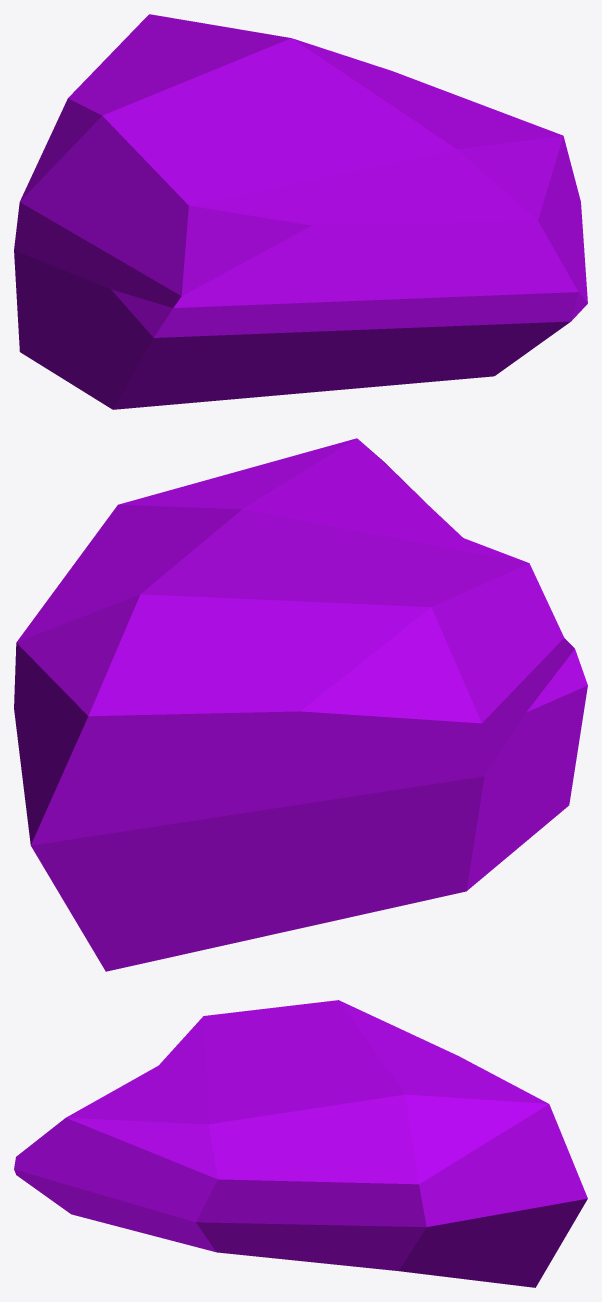
File: Nugget2_Purple.fbx
The picture shows the model from 3 angles, top to bottom: view 1: azimuth 30°, elevation 25°; view 2: azimuth 150°, elevation 25°; view 3: azimuth 270°, elevation 25°; orthographic projection. The views are drawn at different scales.
Parts seen in each view (by area): view 1: Nugget2_Purple; view 2: Nugget2_Purple; view 3: Nugget2_Purple.
Part boxes in pixels (left/top/right/bottom): Nugget2_Purple: left=14, top=14, right=587, bottom=409; Nugget2_Purple: left=14, top=438, right=587, bottom=971; Nugget2_Purple: left=14, top=1000, right=587, bottom=1287.
Bounding box in the file's own units: 25.59 × 16.01 × 37.51.
